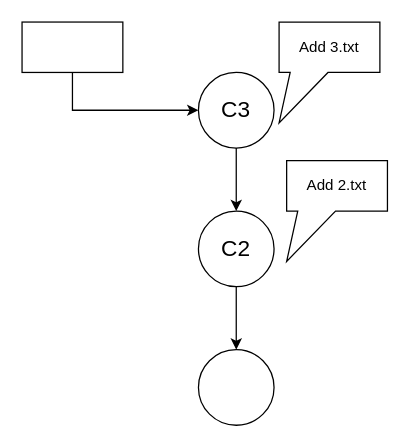
Image size: 410x447. Some labels were removed from this diagram. Here are the shapes that lost their labels. From the top down, the centre of each, then its label:
At point 72,46: "HEAD".
At point 235,386: "C1".
